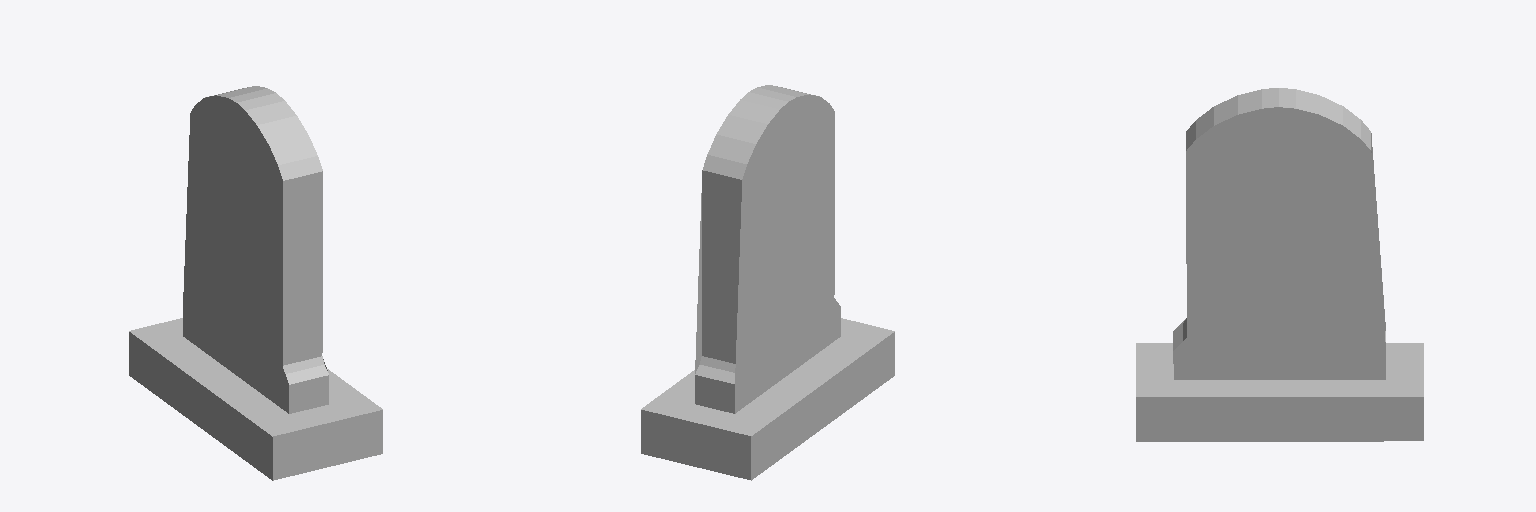
Rendered from headstone.obj.
3 views of the same model, side by side, from view 1: azimuth 30°, elevation 25°; view 2: azimuth 150°, elevation 25°; view 3: azimuth 270°, elevation 25° (orthographic).
Visible parts, largest first — view 1: HeadStone; view 2: HeadStone; view 3: HeadStone.
Part boxes in pixels (x1,y1,x2,y2): HeadStone: (129,86,382,480); HeadStone: (641,85,894,480); HeadStone: (1136,88,1423,441).
Bounding box in the file's own units: 1.4 × 3.84 × 3.16.